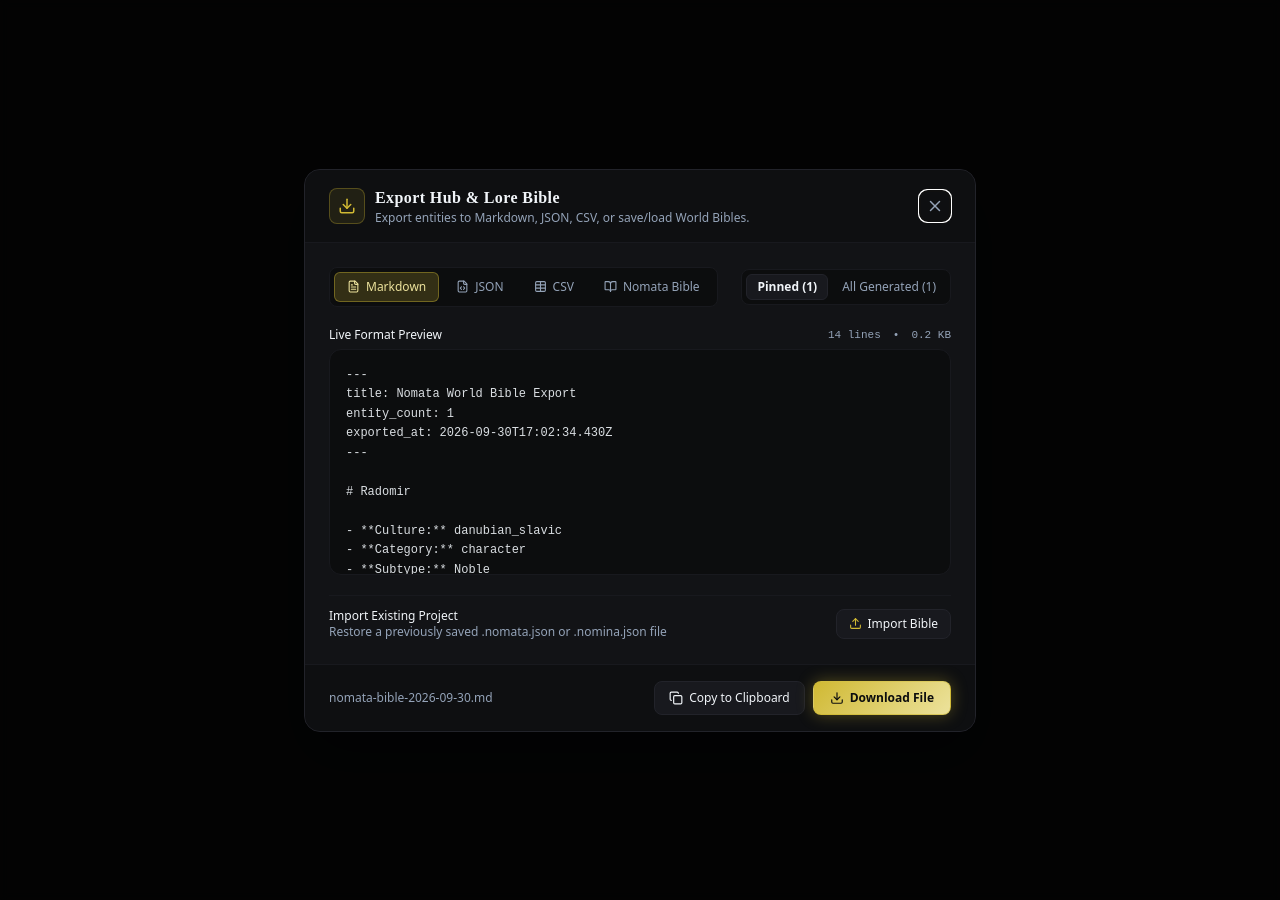
Test case: native export/import boundary smoke › loads a native project file into the real store
Click the button with test id "import-bible-btn" at (893, 624), box [836, 608, 951, 638]
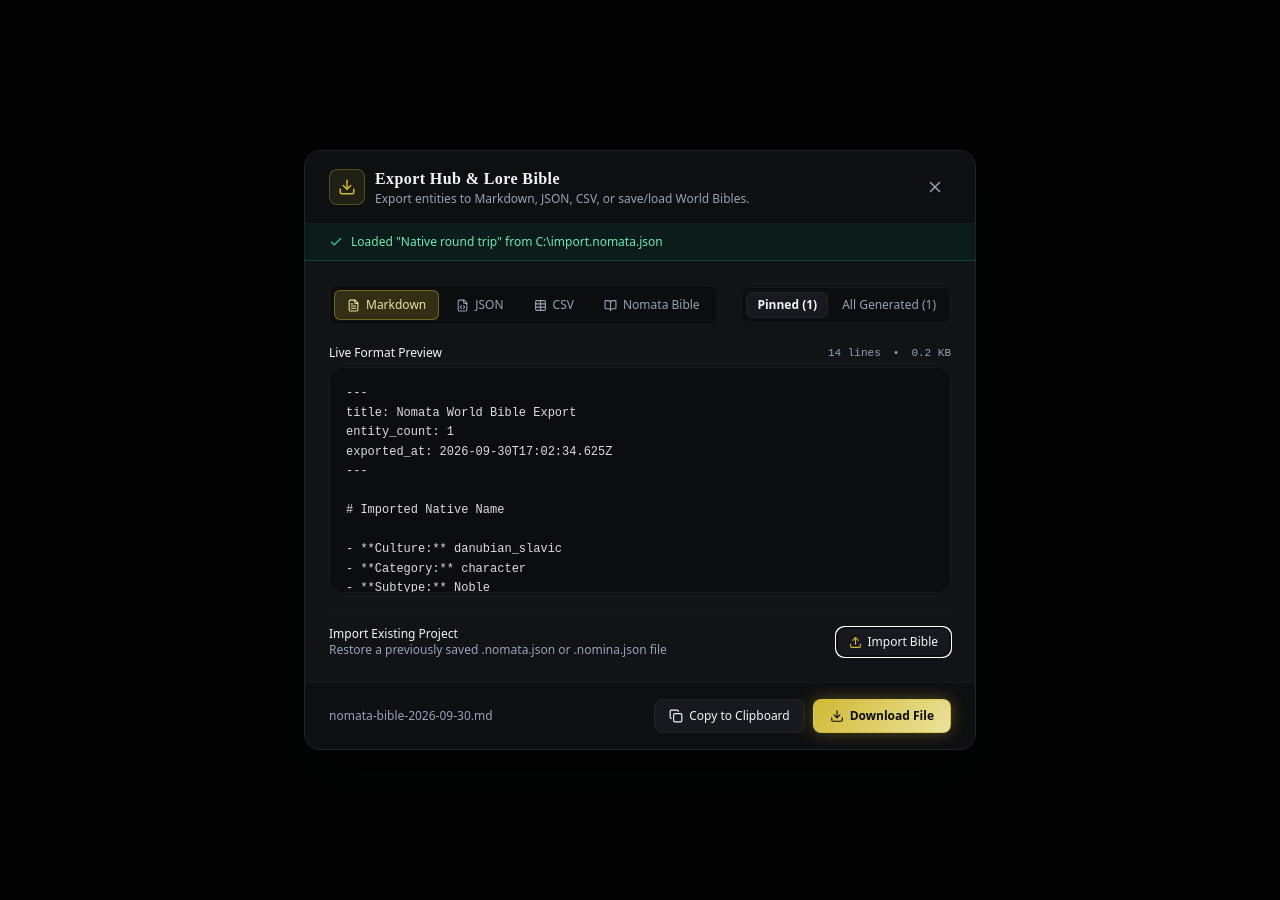
Expected: the text "Loaded \"Native round trip\" from C:\\import.nomata.json" is shown, [351, 234, 663, 250]
Expected: the element with test id "export-preview-pane" shows "Imported Native Name", [346, 386, 612, 593]
